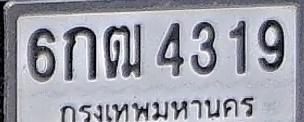1: (229, 20, 246, 74)
3: (191, 21, 217, 74)
4: (158, 22, 183, 76)
6: (29, 27, 56, 81)
9: (258, 19, 284, 71)
A01: (64, 26, 96, 80)
A18: (104, 24, 142, 78)
BKK: (55, 92, 260, 122)
